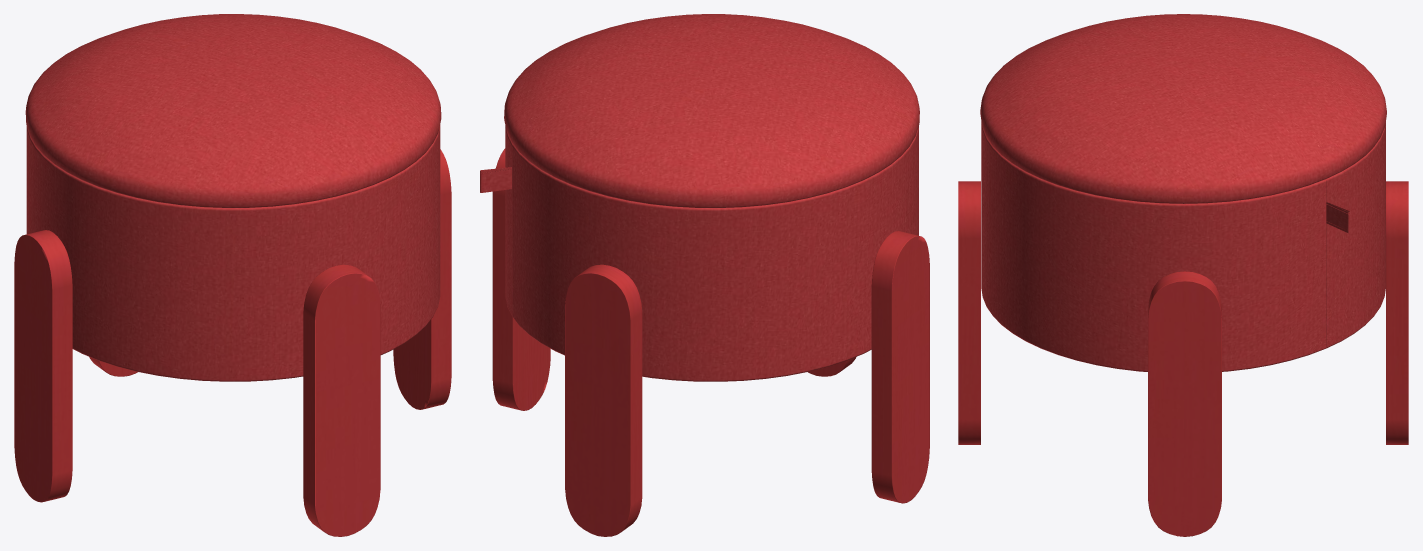
File: forlunda_puf_40570244.glb
3 renders of one model, left to right at view 1: azimuth 30°, elevation 25°; view 2: azimuth 150°, elevation 25°; view 3: azimuth 270°, elevation 25°, orthographic. The views are drawn at different scales.
Visible parts, largest first — view 1: forlunda_puf_40570244; view 2: forlunda_puf_40570244; view 3: forlunda_puf_40570244.
Boxes of the visible parts, <box> form: forlunda_puf_40570244: <box>14,14,451,536</box>; forlunda_puf_40570244: <box>480,14,929,536</box>; forlunda_puf_40570244: <box>958,14,1408,536</box>.
Size of the model in its own units: 0.44 by 0.4099 by 0.44.
Materials: 1 (1 with a texture image).
